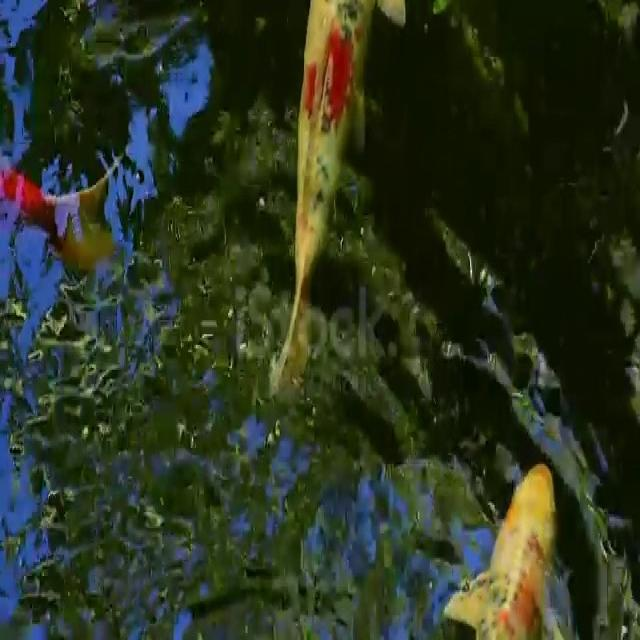fish: (277, 0, 403, 409), (440, 391, 562, 640)
